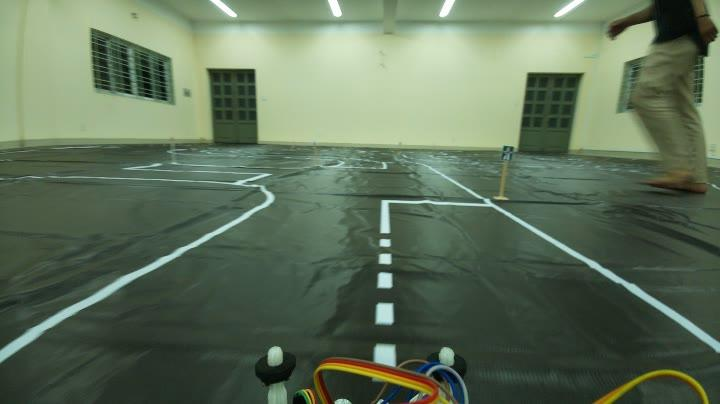highway_exit: (499, 142, 518, 168)
